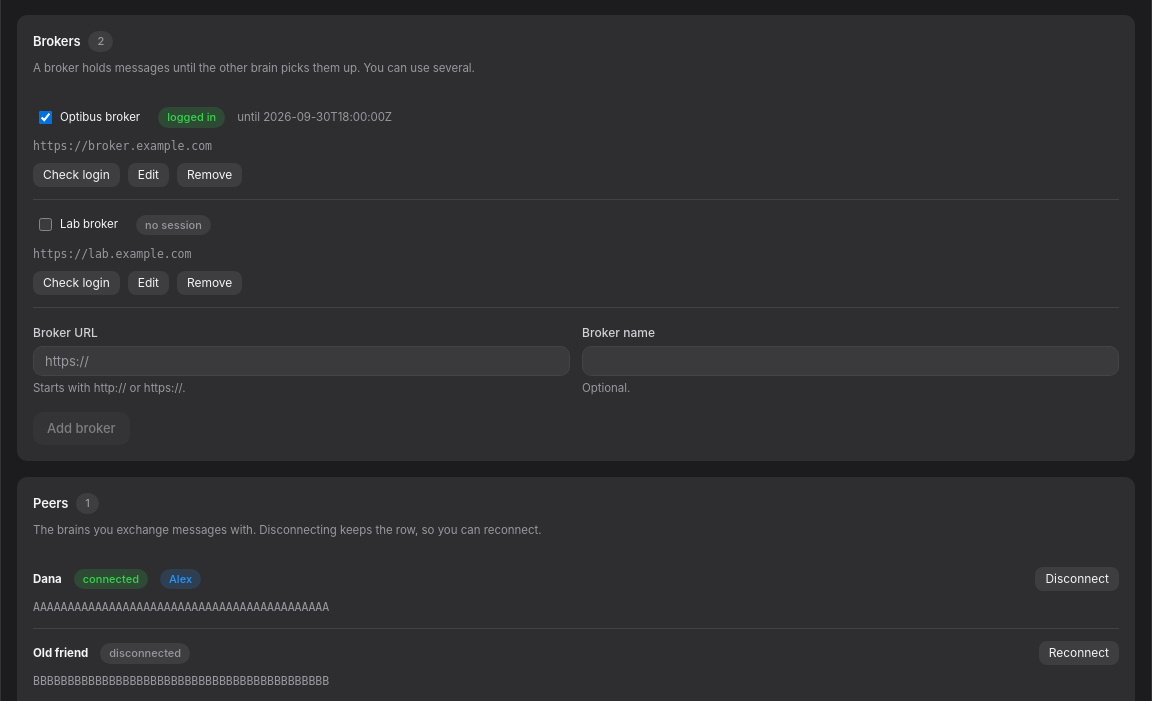
Test case: B2B › shows a refused write with the server's reason
This screenshot has width=1152, height=701.
(page scrolled)
Step 1. Type "ftp://x" into the field labelled "Broker URL" → (302, 361), box [33, 346, 570, 376]
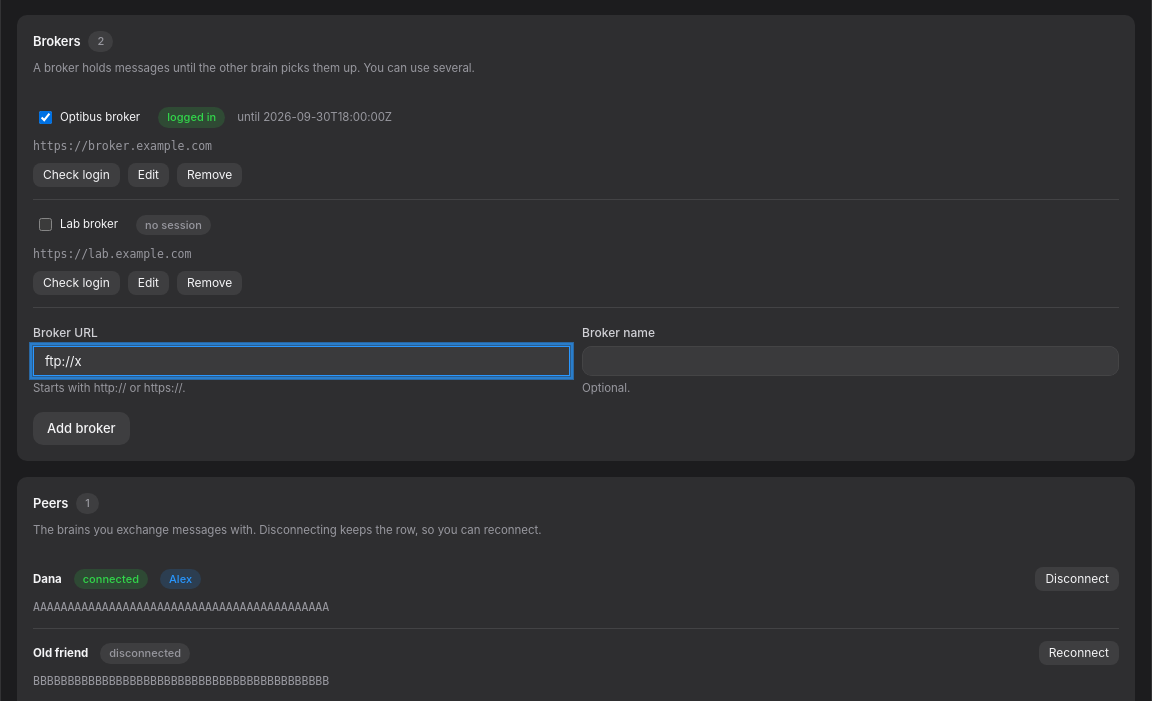
Step 2. Click the button "Add broker" → (81, 429), box [33, 412, 130, 445]
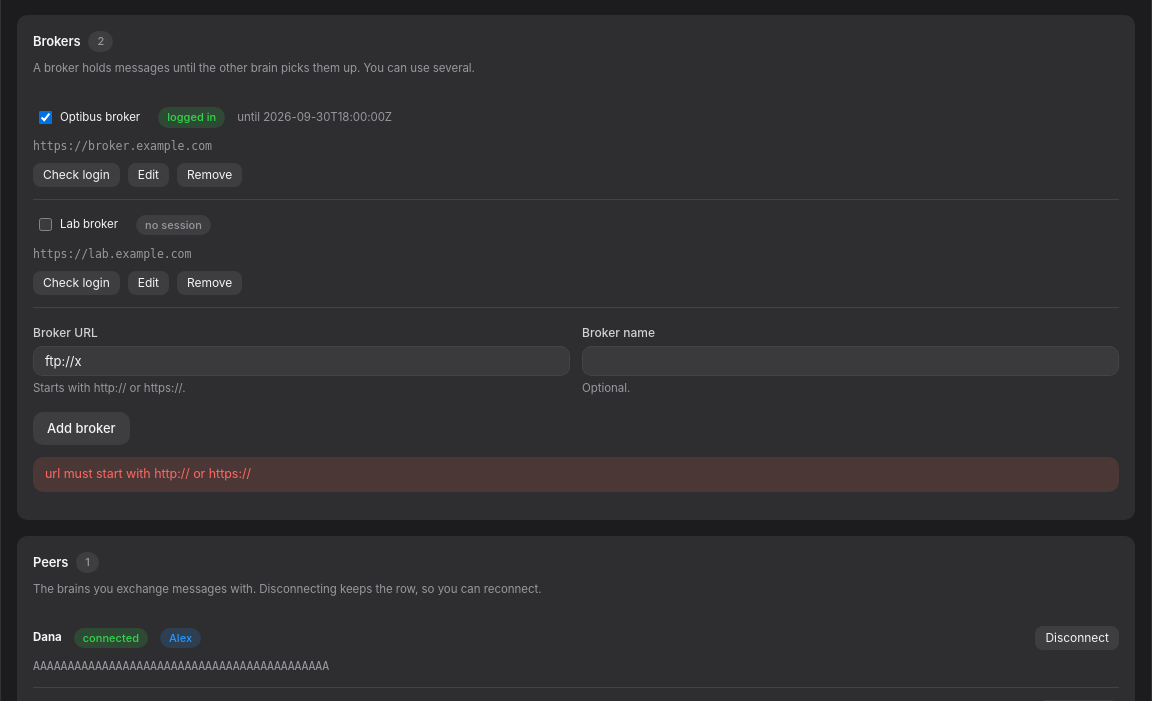
Check: the text "url must start with http:// or https://" is shown, box [33, 457, 1119, 492]
